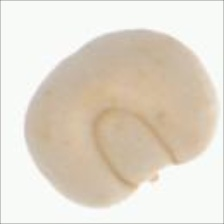L5: (92, 107, 179, 189), (32, 40, 94, 95)
L6: (21, 27, 219, 210)
